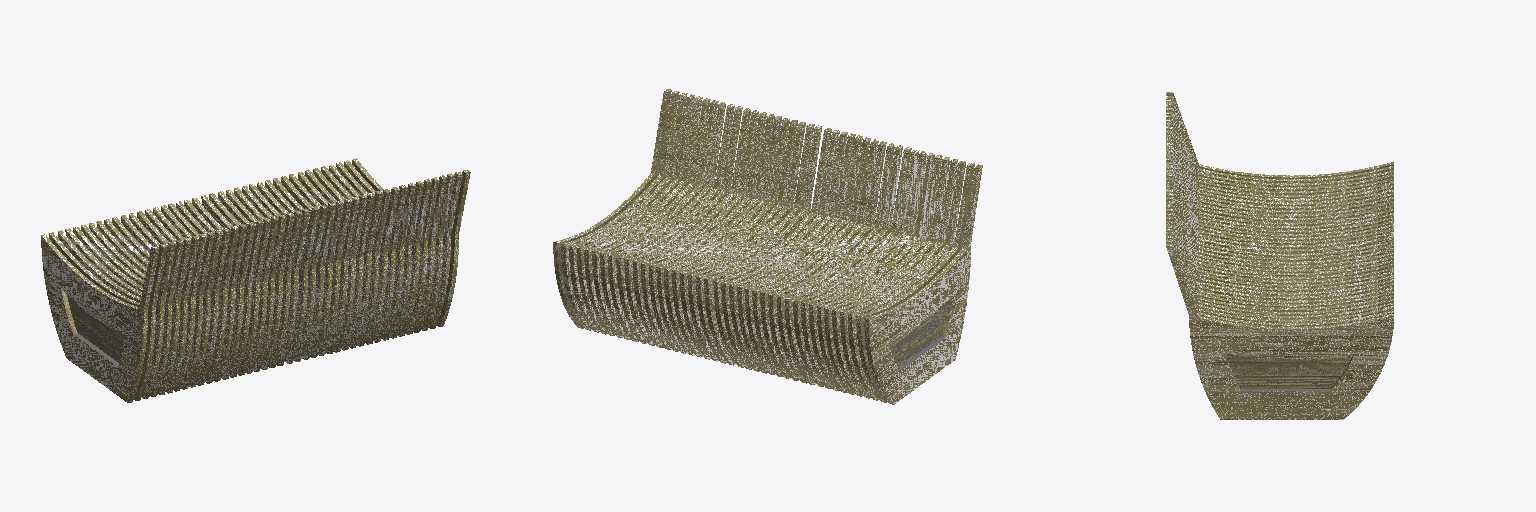
3 renders of one model, left to right at view 1: azimuth 30°, elevation 25°; view 2: azimuth 150°, elevation 25°; view 3: azimuth 270°, elevation 25°, orthographic.
Parts seen in each view (by area): view 1: mesh18_mesh18-geometry, mesh17_mesh17-geometry, mesh12_mesh12-geometry, mesh16_mesh16-geometry, mesh15_mesh15-geometry, mesh38_mesh38-geometry, mesh14_mesh14-geometry, mesh10_mesh10-geometry, mesh8_mesh8-geometry, mesh27_mesh27-geometry, mesh9_mesh9-geometry, mesh13_mesh13-geometry (+27 smaller); view 2: mesh18_mesh18-geometry, mesh38_mesh38-geometry, mesh8_mesh8-geometry, mesh26_mesh26-geometry, mesh7_mesh7-geometry, mesh27_mesh27-geometry, mesh17_mesh17-geometry, mesh37_mesh37-geometry, mesh35_mesh35-geometry, mesh5_mesh5-geometry, mesh15_mesh15-geometry, mesh24_mesh24-geometry (+27 smaller); view 3: mesh18_mesh18-geometry, mesh32_mesh32-geometry, mesh31_mesh31-geometry, mesh1_mesh1-geometry, mesh30_mesh30-geometry, mesh12_mesh12-geometry, mesh11_mesh11-geometry, mesh39_mesh39-geometry, mesh16_mesh16-geometry, mesh7_mesh7-geometry, mesh8_mesh8-geometry, mesh21_mesh21-geometry (+27 smaller).
Part boxes in pixels (left/top/right/bottom): mesh18_mesh18-geometry: left=41, top=158, right=470, bottom=402; mesh17_mesh17-geometry: left=58, top=230, right=175, bottom=398; mesh12_mesh12-geometry: left=49, top=232, right=167, bottom=400; mesh16_mesh16-geometry: left=65, top=228, right=183, bottom=396; mesh15_mesh15-geometry: left=73, top=226, right=191, bottom=394; mesh38_mesh38-geometry: left=201, top=195, right=319, bottom=363; mesh14_mesh14-geometry: left=81, top=224, right=199, bottom=393; mesh10_mesh10-geometry: left=96, top=221, right=214, bottom=389; mesh8_mesh8-geometry: left=121, top=215, right=238, bottom=383; mesh27_mesh27-geometry: left=281, top=176, right=399, bottom=344; mesh9_mesh9-geometry: left=104, top=219, right=222, bottom=387; mesh13_mesh13-geometry: left=89, top=223, right=206, bottom=391; mesh18_mesh18-geometry: left=553, top=89, right=982, bottom=404; mesh38_mesh38-geometry: left=704, top=125, right=822, bottom=365; mesh8_mesh8-geometry: left=785, top=145, right=902, bottom=384; mesh26_mesh26-geometry: left=608, top=102, right=725, bottom=341; mesh7_mesh7-geometry: left=768, top=141, right=886, bottom=380; mesh27_mesh27-geometry: left=624, top=106, right=742, bottom=345; mesh17_mesh17-geometry: left=848, top=161, right=965, bottom=400; mesh37_mesh37-geometry: left=687, top=121, right=805, bottom=361; mesh35_mesh35-geometry: left=672, top=118, right=789, bottom=357; mesh5_mesh5-geometry: left=752, top=137, right=870, bottom=376; mesh15_mesh15-geometry: left=832, top=157, right=949, bottom=396; mesh24_mesh24-geometry: left=592, top=98, right=710, bottom=337; mesh18_mesh18-geometry: left=1166, top=92, right=1393, bottom=419; mesh32_mesh32-geometry: left=1166, top=165, right=1393, bottom=253; mesh31_mesh31-geometry: left=1166, top=174, right=1393, bottom=261; mesh1_mesh1-geometry: left=1166, top=213, right=1393, bottom=300; mesh30_mesh30-geometry: left=1166, top=205, right=1393, bottom=292; mesh12_mesh12-geometry: left=1166, top=96, right=1393, bottom=183; mesh11_mesh11-geometry: left=1166, top=127, right=1393, bottom=213; mesh39_mesh39-geometry: left=1166, top=135, right=1393, bottom=221; mesh16_mesh16-geometry: left=1166, top=104, right=1393, bottom=190; mesh7_mesh7-geometry: left=1166, top=139, right=1393, bottom=225; mesh8_mesh8-geometry: left=1166, top=131, right=1393, bottom=217; mesh21_mesh21-geometry: left=1166, top=158, right=1393, bottom=244.
Size of the model in its own units: 0.7733 by 0.4084 by 0.485.
4 materials, 1 textured.